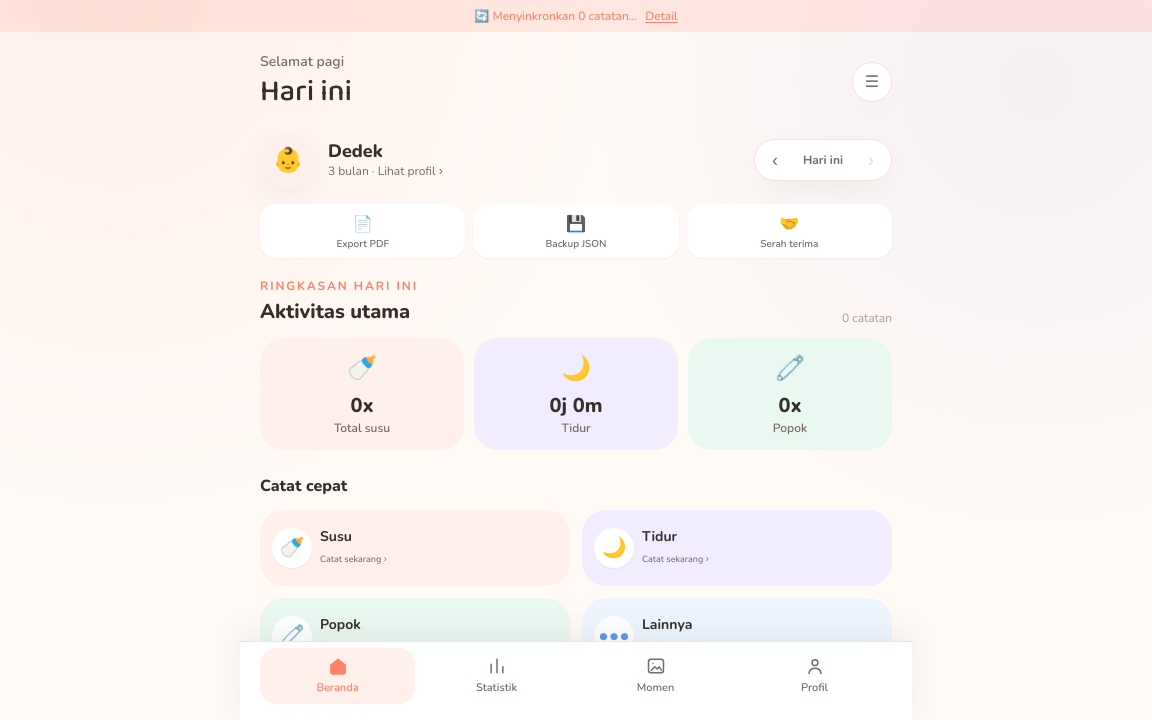
Test: App — Sync Center (single authoritative sync controller) › banner's 'Detail' action opens the exact same Sync Center dialog
Expected: the text "Dedek" is shown, [328,139,383,163]
Click the button "Detail": coordinates (661, 16) [645,8,678,24]
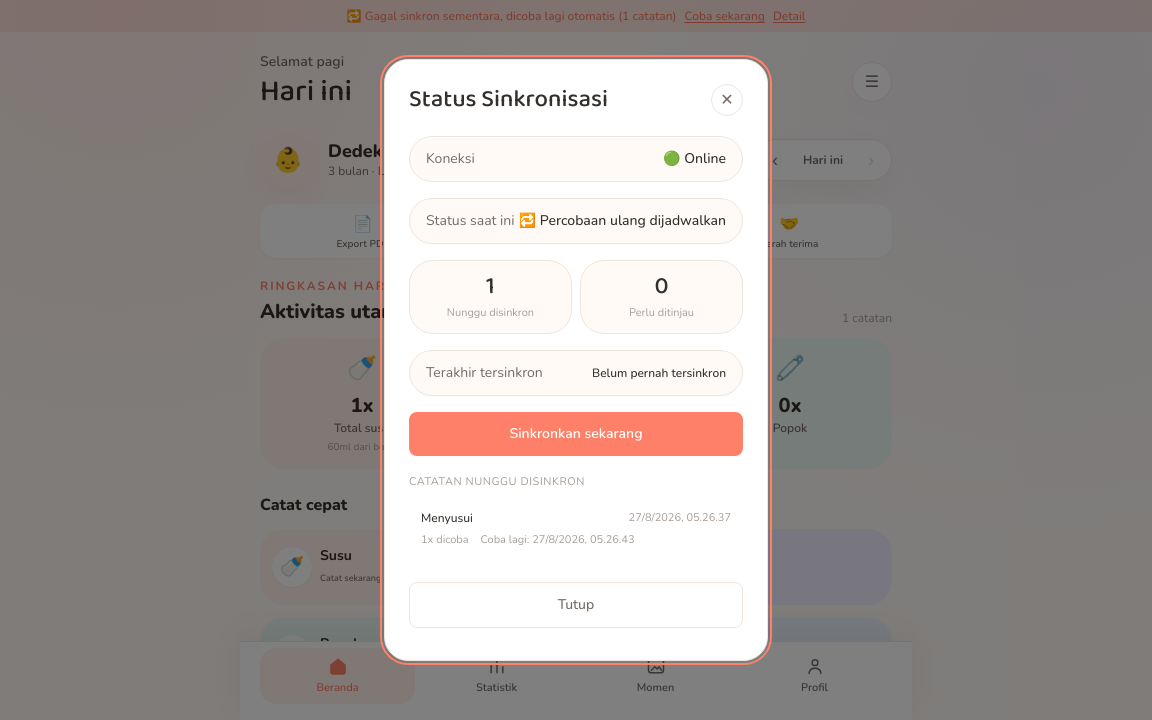
Expected: the dialog "Status Sinkronisasi" is shown, [384,59,768,661]
